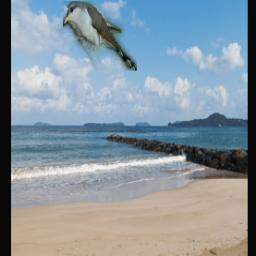Cuckoo: (63, 2, 137, 72)
